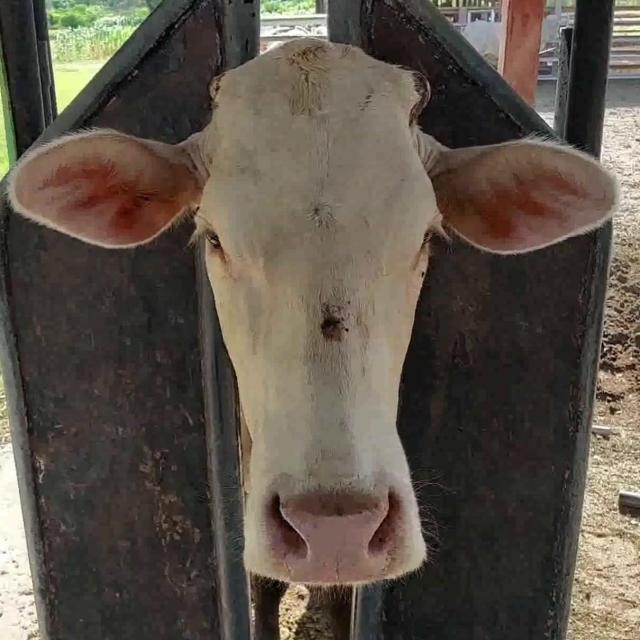cowFace: (197, 38, 440, 580)
